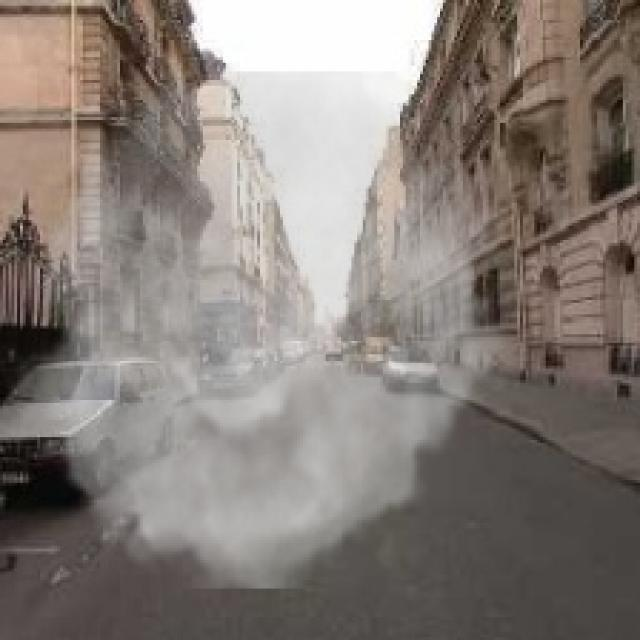Smoke: (6, 71, 526, 588)
